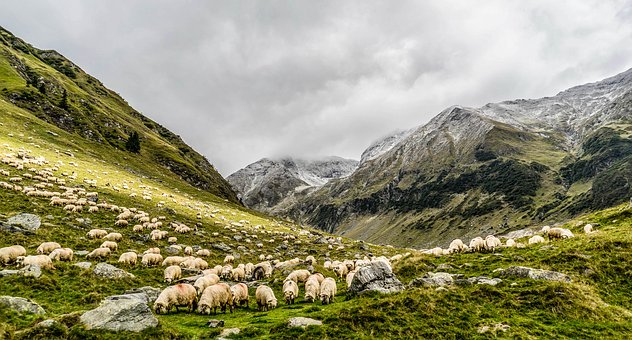field: (18, 153, 625, 340)
mountain: (274, 100, 632, 221)
sky: (46, 9, 632, 137)
